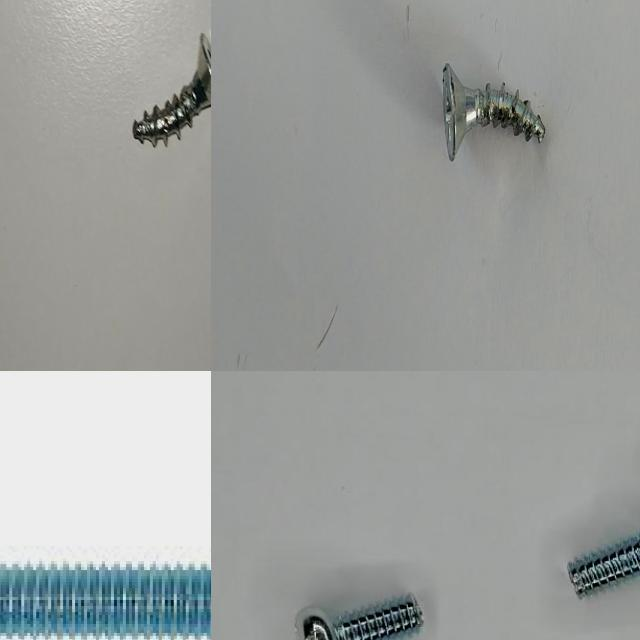Screw: (0, 564, 211, 640), (443, 63, 545, 161), (133, 33, 211, 146), (295, 596, 423, 640), (569, 534, 640, 597)
